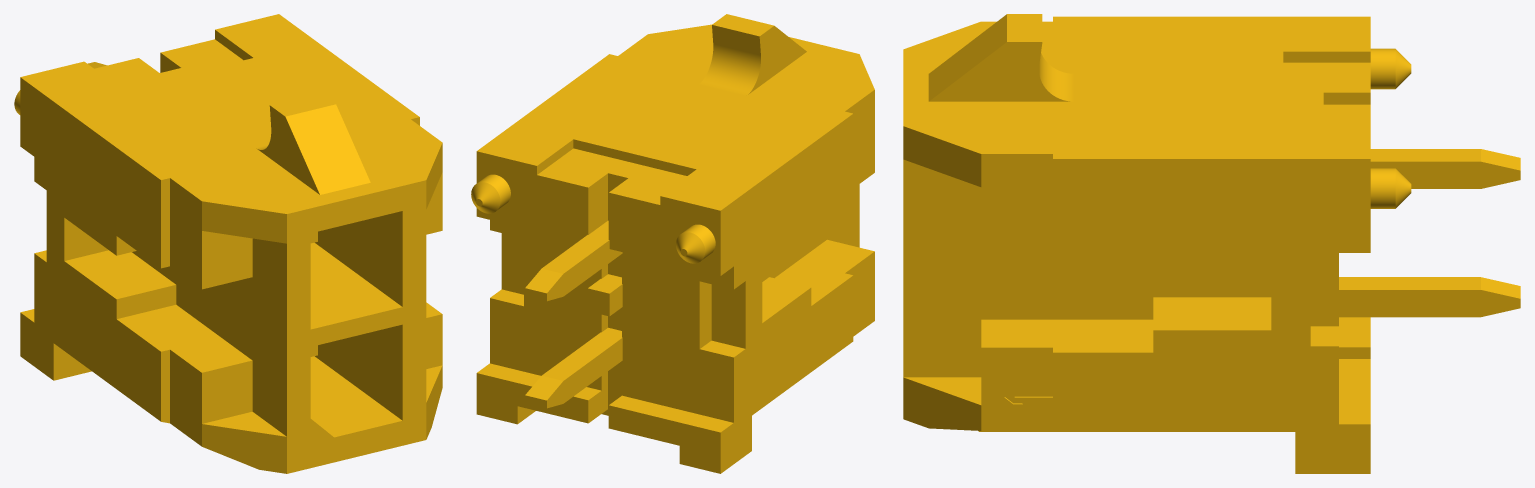
Rendered from Open_CASCADE_STEP_translator_7_5_1_3_1_1.gltf.
3 renders of one model, left to right at view 1: azimuth 30°, elevation 25°; view 2: azimuth 150°, elevation 25°; view 3: azimuth 270°, elevation 25°, orthographic. The views are drawn at different scales.
Parts seen in each view (by area): view 1: mesh95253, mesh95216, mesh95271, mesh95219, mesh95277, mesh95274, mesh95257, mesh95207, mesh95273, mesh95278, mesh95148, mesh95212 (+18 smaller); view 2: mesh95253, mesh95216, mesh95194, mesh95199, mesh95142, mesh95158, mesh95148, mesh95184, mesh95207, mesh95190, mesh95254, mesh95198 (+27 smaller); view 3: mesh95235, mesh95253, mesh95238, mesh95240, mesh95248, mesh95229, mesh95148, mesh95178, mesh95256, mesh95231, mesh95154, mesh95225 (+13 smaller).
Boxes of the visible parts, x1,y1,x2,y2 form: mesh95253: (20,14,442,213); mesh95216: (20,77,160,421); mesh95271: (287,180,426,473); mesh95219: (132,238,286,436); mesh95277: (315,324,402,420); mesh95274: (315,211,402,306); mesh95257: (285,104,370,194); mesh95207: (117,304,252,372); mesh95273: (310,242,402,329); mesh95278: (310,356,402,437); mesh95148: (94,39,242,89); mesh95212: (64,250,175,299); mesh95253: (477,24,874,210); mesh95216: (720,114,853,473); mesh95194: (622,252,733,422); mesh95199: (490,220,601,390); mesh95142: (476,151,588,241); mesh95158: (608,192,720,275); mesh95148: (537,148,686,204); mesh95184: (608,405,720,473); mesh95207: (775,239,874,305); mesh95190: (476,373,588,424); mesh95254: (699,44,760,95); mesh95198: (711,281,745,348); mesh95235: (1053,159,1370,473); mesh95253: (903,16,1370,158); mesh95238: (903,159,1271,377); mesh95240: (981,154,1052,253); mesh95248: (981,347,1052,430); mesh95229: (981,319,1153,352); mesh95148: (1283,62,1370,123); mesh95178: (1339,290,1520,317); mesh95256: (929,42,1069,101); mesh95231: (1153,297,1271,330); mesh95154: (1370,161,1520,188); mesh95225: (903,377,981,430).
Bounding box in the file's own units: 0.00715 × 0.00877 × 0.0131.
